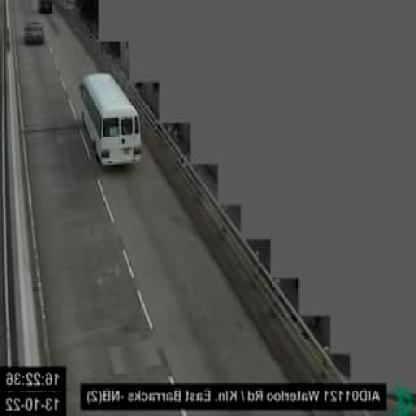Bus: (80, 72, 142, 167)
Car: (23, 21, 45, 47), (40, 1, 54, 13)
